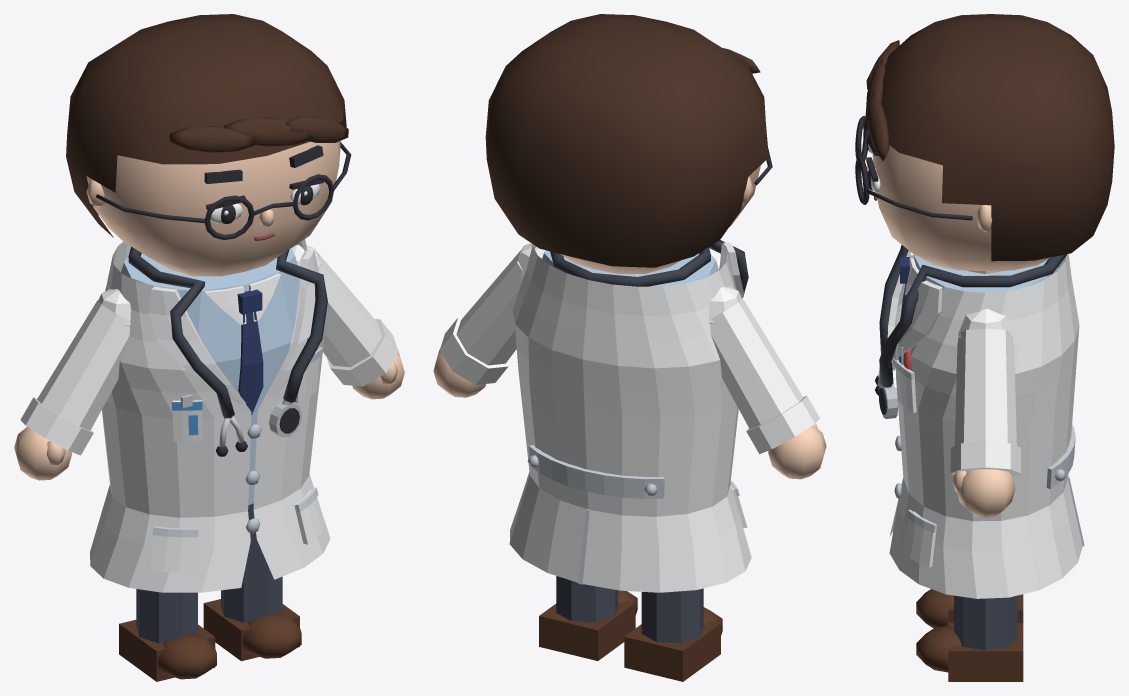
The model's file is doctor.glb.
3 views of the same model, side by side, from view 1: azimuth 30°, elevation 25°; view 2: azimuth 150°, elevation 25°; view 3: azimuth 270°, elevation 25° (orthographic).
Parts seen in each view (by area): view 1: Coat, Hair, Head, Torso, ArmR, StethTube, ArmL, LegL, LegR, LapelR, ToeL, ToeR (+20 smaller); view 2: Coat, Hair, ArmR, ArmL, ShoeR, ShoeL, LegR, BackBelt, StethTube, LegL, HandR, CuffR (+5 smaller); view 3: Hair, Coat, Head, ArmL, StethTube, LegL, ShoeL, HandL, CuffL, LapelL, ToeL, Torso (+12 smaller).
Boxes of the visible parts, x1=… form: Coat: x1=90, y1=239, x2=330, y2=592; Hair: x1=66, y1=14, x2=346, y2=237; Head: x1=86, y1=141, x2=340, y2=276; Torso: x1=121, y1=248, x2=299, y2=505; ArmR: x1=37, y1=300, x2=129, y2=430; StethTube: x1=128, y1=246, x2=327, y2=418; ArmL: x1=317, y1=252, x2=381, y2=367; LegL: x1=221, y1=503, x2=282, y2=622; LegR: x1=136, y1=589, x2=197, y2=643; LapelR: x1=148, y1=286, x2=246, y2=404; ToeL: x1=242, y1=613, x2=301, y2=658; ToeR: x1=158, y1=633, x2=216, y2=679; Coat: x1=509, y1=243, x2=751, y2=592; Hair: x1=485, y1=14, x2=768, y2=267; ArmR: x1=710, y1=298, x2=803, y2=428; ArmL: x1=456, y1=249, x2=523, y2=365; ShoeR: x1=624, y1=621, x2=720, y2=681; ShoeL: x1=539, y1=600, x2=635, y2=660; LegR: x1=641, y1=588, x2=703, y2=643; BackBelt: x1=528, y1=445, x2=664, y2=498; StethTube: x1=550, y1=240, x2=748, y2=297; LegL: x1=556, y1=576, x2=618, y2=622; HandR: x1=768, y1=425, x2=826, y2=479; CuffR: x1=746, y1=395, x2=819, y2=453; Hair: x1=881, y1=14, x2=1114, y2=261; Coat: x1=889, y1=254, x2=1082, y2=598; Head: x1=872, y1=145, x2=1051, y2=270; ArmL: x1=954, y1=328, x2=1016, y2=445; StethTube: x1=879, y1=245, x2=1066, y2=387; LegL: x1=954, y1=595, x2=1017, y2=650; ShoeL: x1=948, y1=623, x2=1023, y2=681; HandL: x1=957, y1=469, x2=1015, y2=518; CuffL: x1=950, y1=441, x2=1020, y2=476; LapelL: x1=891, y1=280, x2=942, y2=370; ToeL: x1=916, y1=625, x2=961, y2=672; Torso: x1=914, y1=255, x2=1058, y2=292.
Bounding box in the file's own units: 1.34 × 2.04 × 0.7859.
